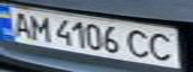0: (81, 21, 106, 52)
1: (66, 19, 87, 48)
4: (51, 16, 72, 46)
6: (100, 24, 127, 55)
A: (6, 9, 36, 39)
C: (145, 30, 181, 63), (124, 27, 154, 60)
M: (27, 12, 54, 43)
